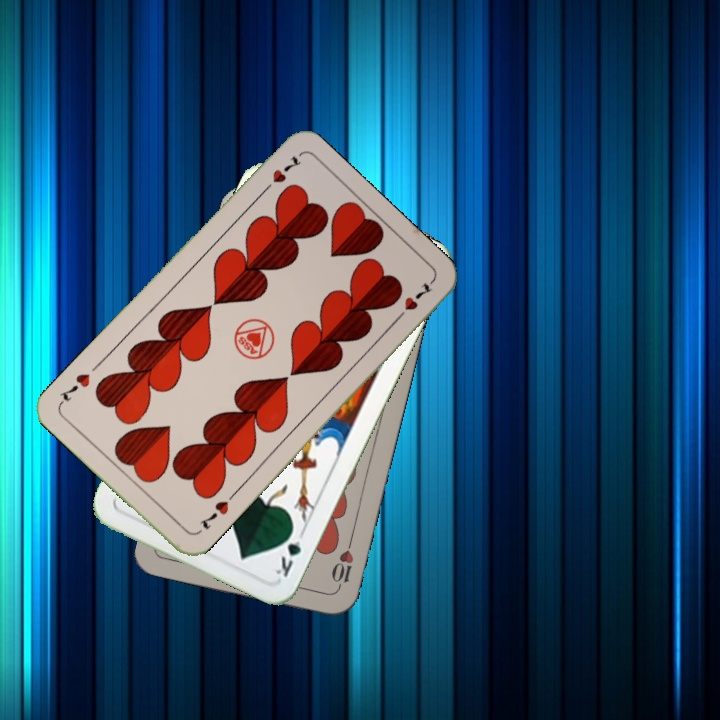GK: (269, 522, 308, 580)
H10: (327, 536, 356, 594)
H7: (257, 151, 304, 197), (195, 497, 231, 532)
